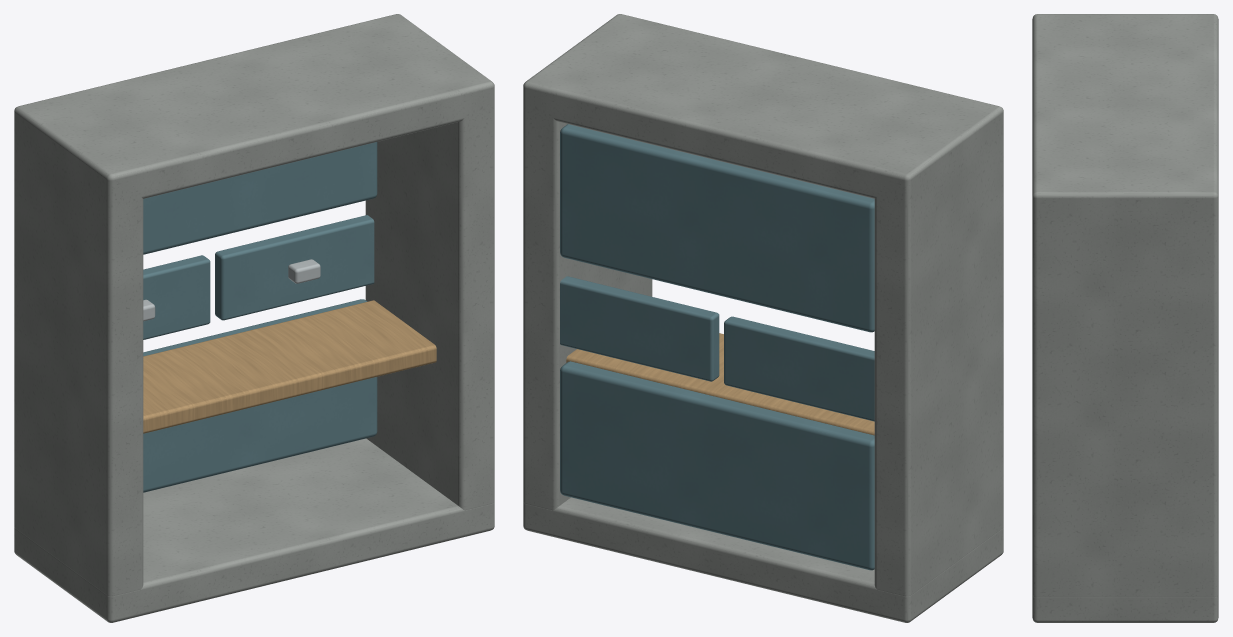
Rendered from gorgehold-survivor-gallery-and-operations-gallery-obse-bc88759b__32871.glb.
3 views of the same model, side by side, from view 1: azimuth 30°, elevation 25°; view 2: azimuth 150°, elevation 25°; view 3: azimuth 270°, elevation 25° (orthographic). The views are drawn at different scales.
Visible parts, largest first — view 1: gallery-observation-recess; view 2: gallery-observation-recess; view 3: gallery-observation-recess.
Part boxes in pixels (x1,y1,x2,y2): gallery-observation-recess: (14, 14, 494, 622); gallery-observation-recess: (523, 14, 1003, 622); gallery-observation-recess: (1032, 14, 1218, 622).
Size of the model in its own units: 1.5 by 1.66 by 0.6499.
4 materials, 4 textured.
